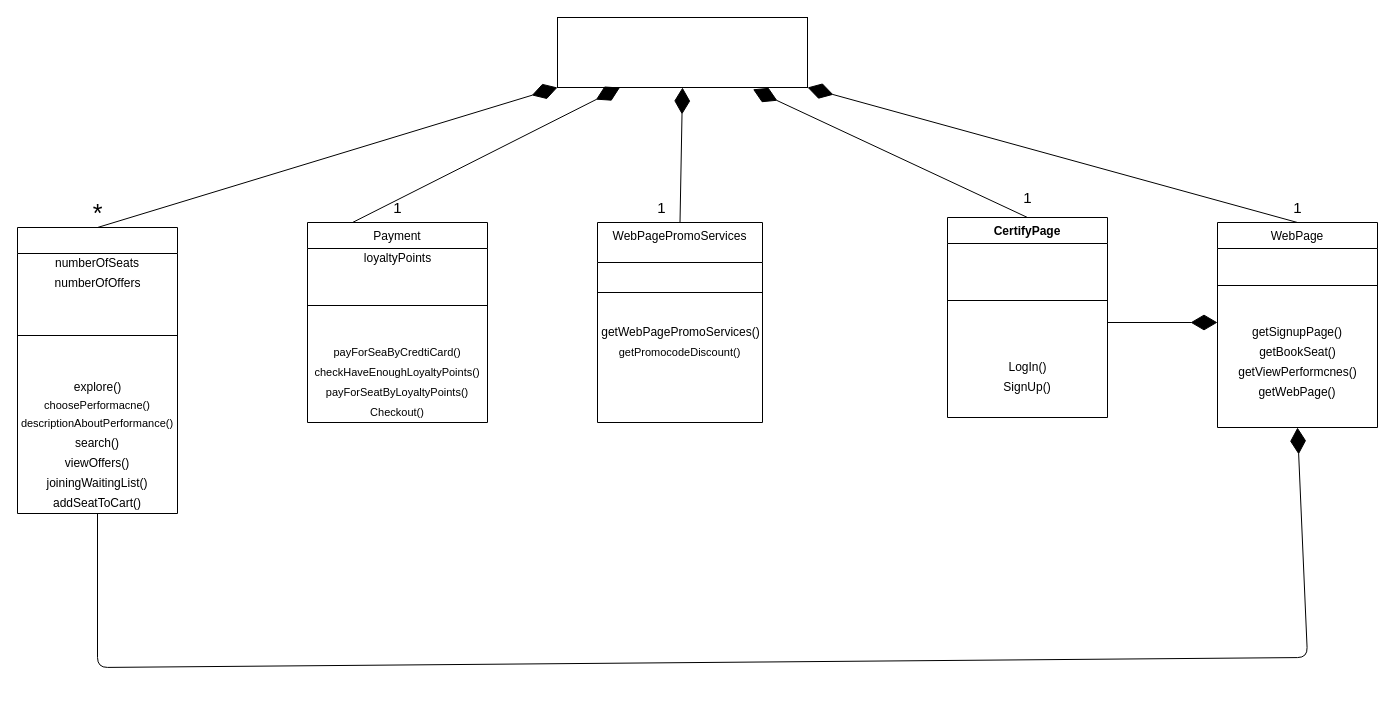
Some shapes in this 1395 by 711 pixel diagram are drawn without their labels. Here are the shapes that lost their labels. From the top down, the box of each, then its label:
(556, 16, 808, 88): Theater Booking System
(16, 226, 178, 514): Performances
